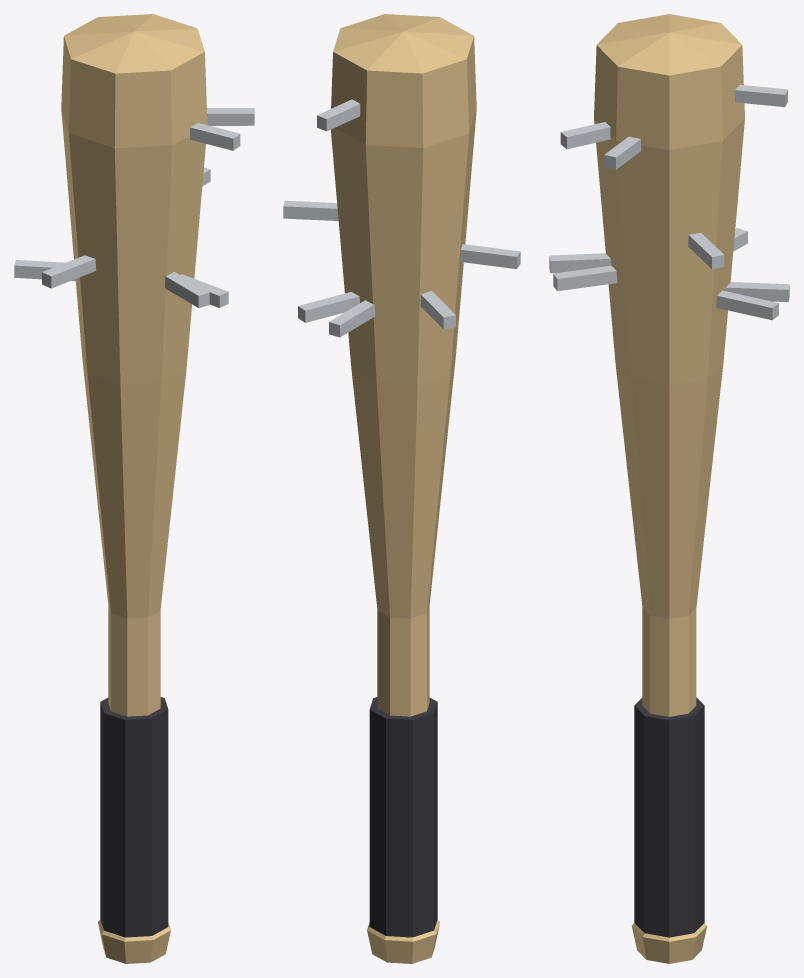
The model's file is SpikedBat.fbx.
3 views of the same model, side by side, from view 1: azimuth 30°, elevation 25°; view 2: azimuth 150°, elevation 25°; view 3: azimuth 270°, elevation 25° (orthographic).
Parts seen in each view (by area): view 1: SpikedBat; view 2: SpikedBat; view 3: SpikedBat.
Part boxes in pixels (box(x1,y1,x2,y2)): SpikedBat: box(14, 14, 254, 963); SpikedBat: box(283, 14, 520, 963); SpikedBat: box(549, 14, 789, 963).
Size of the model in its own units: 0.8558 by 3.75 by 0.8908.
1 material, 1 textured.
